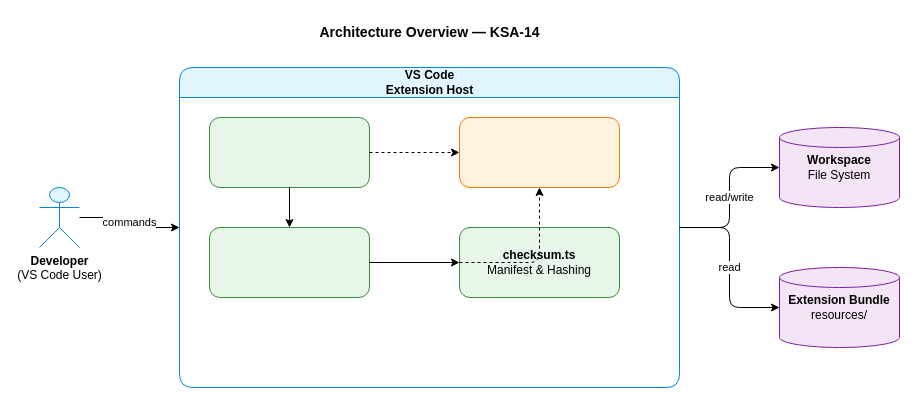
This 917x405 diagram has some shape labels left out. Each missing label, with the centre of its shape:
config.ts Component Registry: [539,152]
extension.ts Commands & UI: [289,152]
injector.ts Injection Logic: [289,262]
